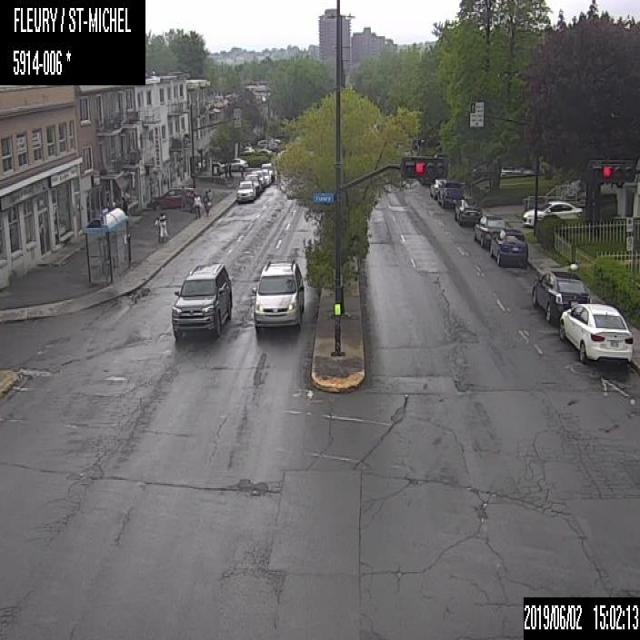pedestrian: (153, 211, 168, 241), (201, 186, 211, 216), (192, 187, 200, 216), (180, 184, 188, 212)
vehicle: (170, 260, 232, 344), (559, 298, 633, 364), (250, 256, 305, 333), (530, 266, 589, 322), (520, 194, 582, 226), (492, 226, 530, 269), (472, 212, 504, 247), (454, 196, 482, 228), (150, 189, 191, 209), (436, 180, 464, 208), (234, 178, 255, 202), (244, 172, 262, 195), (428, 178, 445, 198), (259, 167, 271, 187)
